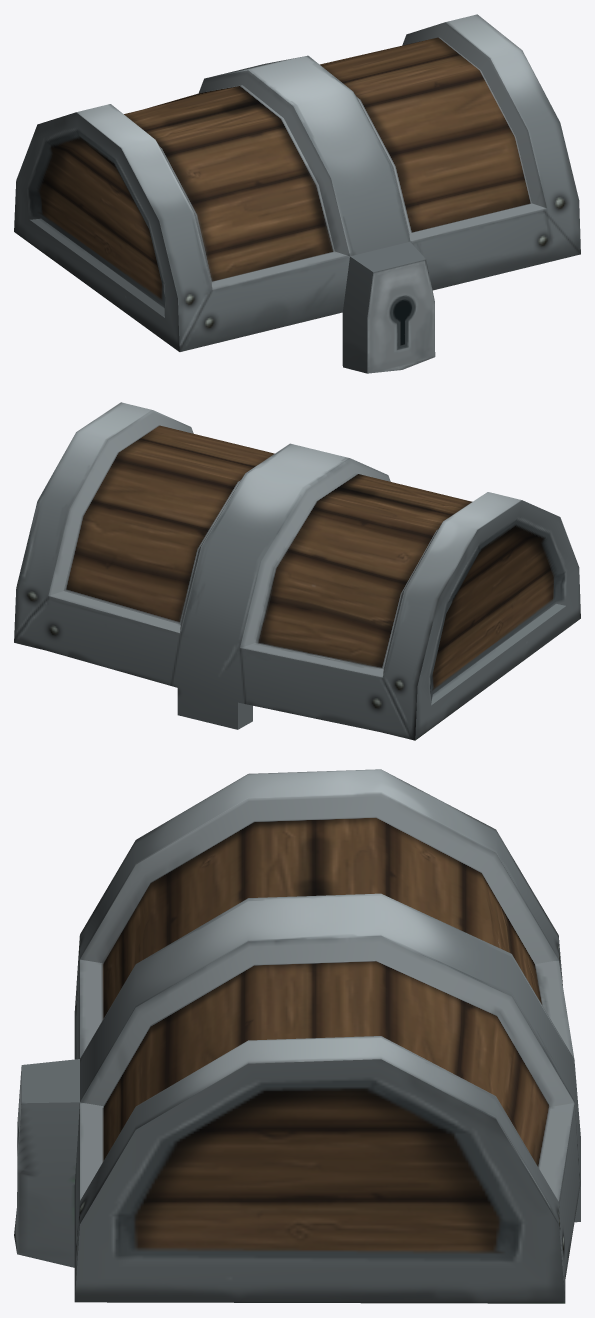
The model's file is chestlidMesh.FBX.
The picture shows the model from 3 angles, top to bottom: view 1: azimuth 30°, elevation 25°; view 2: azimuth 150°, elevation 25°; view 3: azimuth 270°, elevation 25°; orthographic projection. The views are drawn at different scales.
Parts seen in each view (by area): view 1: chest_lid; view 2: chest_lid; view 3: chest_lid.
Boxes of the visible parts, x1,y1,x2,y2 form: chest_lid: (14, 14, 580, 373); chest_lid: (14, 402, 580, 740); chest_lid: (14, 769, 580, 1303).
Size of the model in its own units: 998 by 529 by 824.
